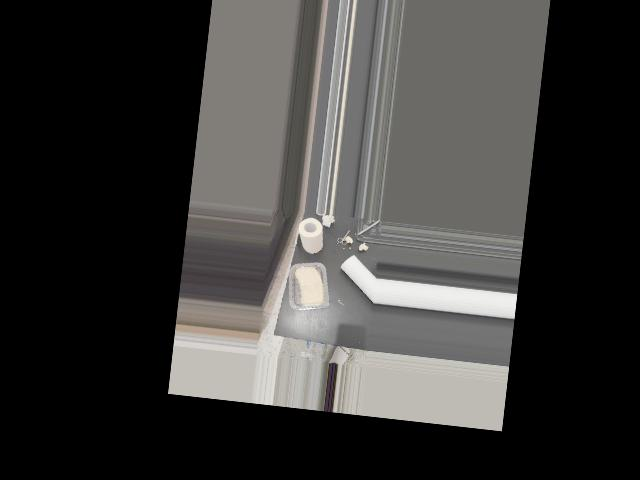cheese: (288, 259, 332, 314)
